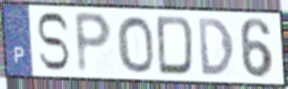6: (238, 16, 276, 81)
D: (155, 14, 196, 78), (196, 16, 237, 78)
O: (115, 14, 156, 75)
P: (72, 10, 114, 76)
S: (34, 10, 71, 73)
